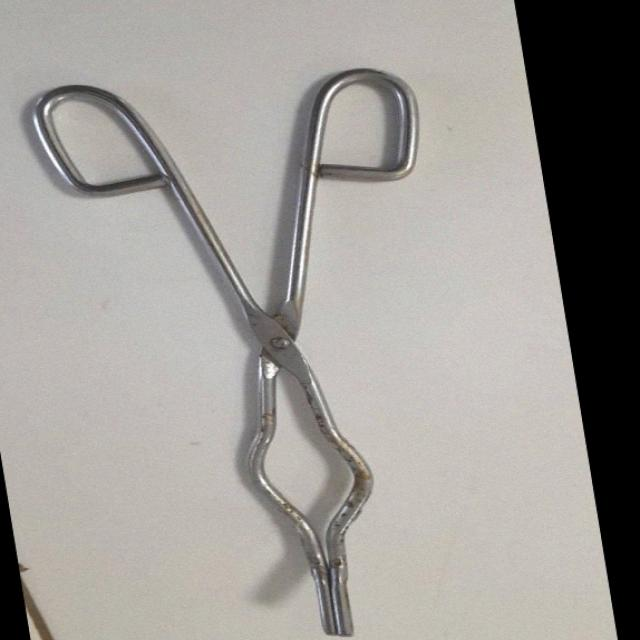Tongue: (6, 66, 526, 640)
